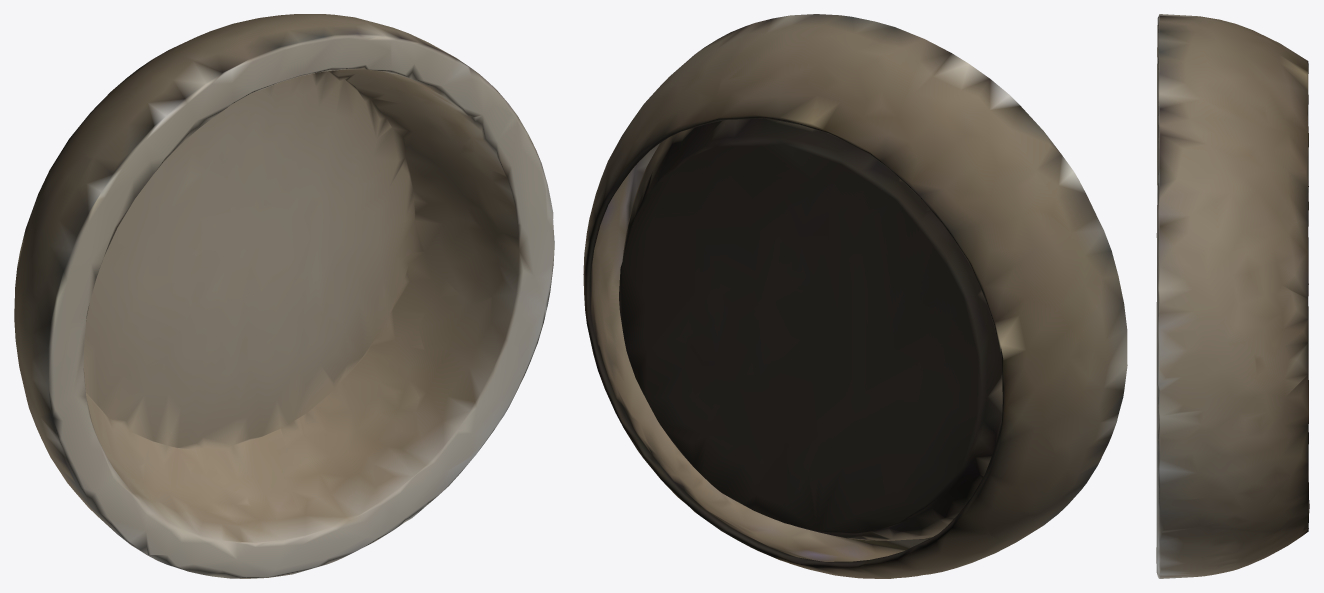
Rendered from planter-concrete.glb.
3 renders of one model, left to right at view 1: azimuth 30°, elevation 25°; view 2: azimuth 150°, elevation 25°; view 3: azimuth 270°, elevation 25°, orthographic. The views are drawn at different scales.
Visible parts, largest first — view 1: planter-concrete; view 2: planter-concrete; view 3: planter-concrete.
Part boxes in pixels (x1=…): planter-concrete: x1=14, y1=14, x2=554, y2=578; planter-concrete: x1=583, y1=14, x2=1127, y2=578; planter-concrete: x1=1156, y1=14, x2=1309, y2=578.
Size of the model in its own units: 0.9986 by 0.9981 by 0.2712.
